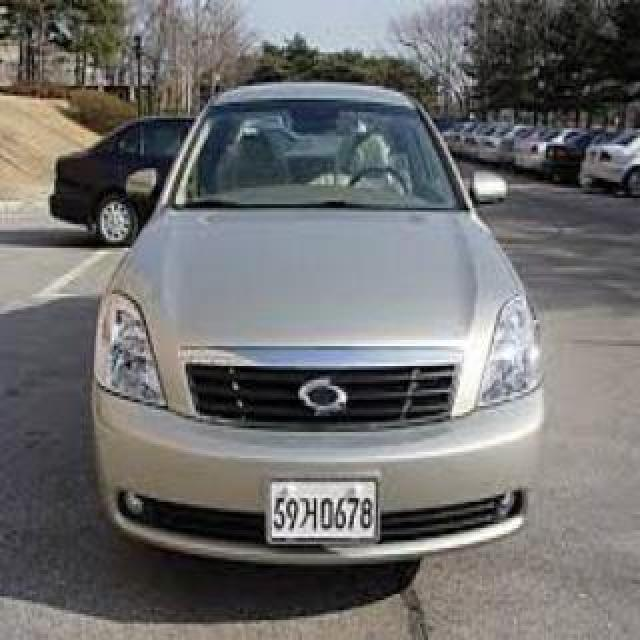car: (81, 72, 558, 581)
illegal_plate: (265, 475, 382, 549)
